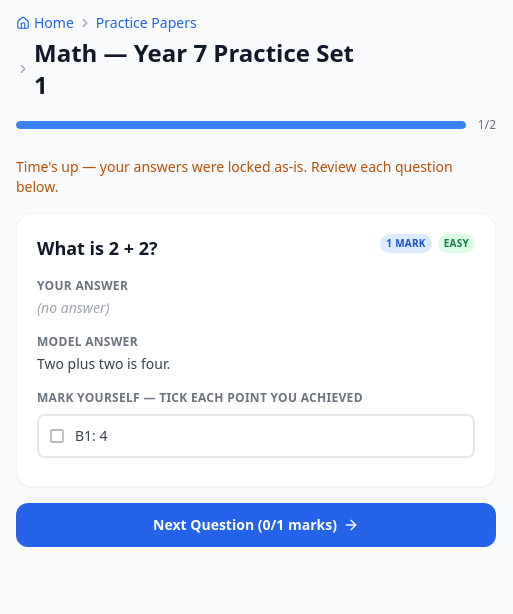
Test: PaperRunnerClient › records zero when the clock submits a fully unanswered paper
The width and height of the screenshot is (513, 614).
# Straight through review with no ticks.
Click the button "Next Question (0/1 marks)".
click(256, 525)  # box x1=16 y1=503 x2=496 y2=547
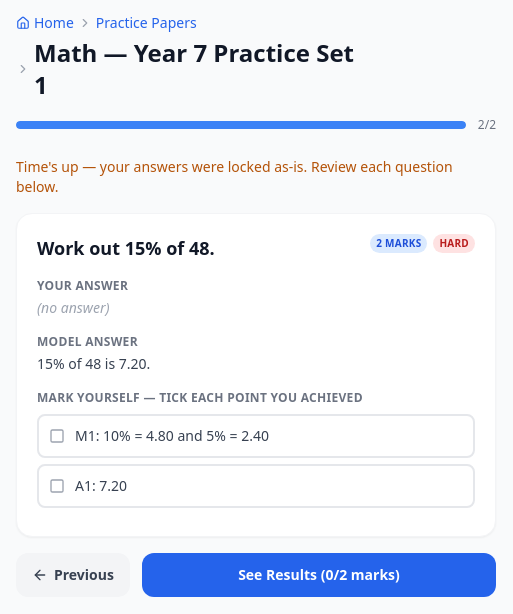
Click the button "See Results (0/2 marks)".
click(319, 575)  # box x1=142 y1=553 x2=496 y2=597
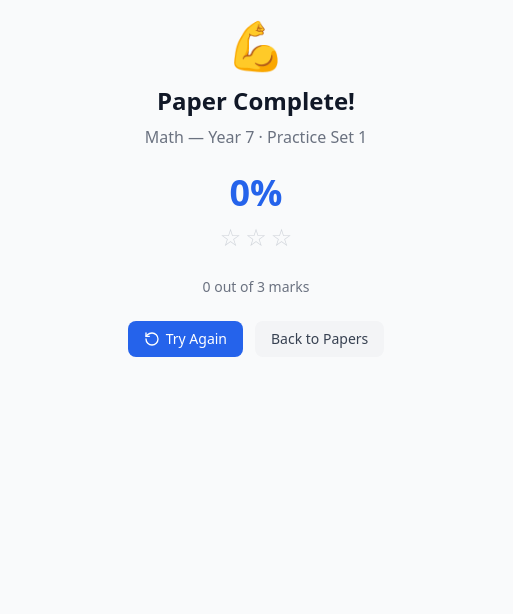
Result: the heading "Paper Complete!" is shown at x1=157 y1=84 x2=355 y2=117
